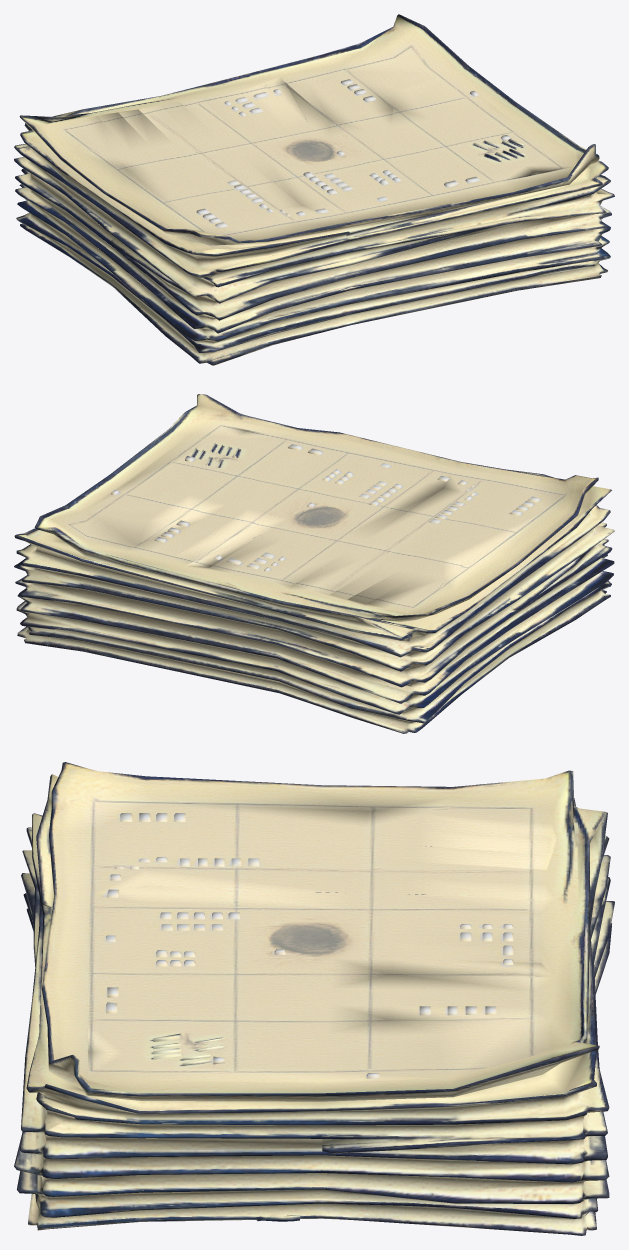
Rendered from ReceptionPapers.fbx.
3 renders of one model, top to bottom at view 1: azimuth 30°, elevation 25°; view 2: azimuth 150°, elevation 25°; view 3: azimuth 270°, elevation 25°, orthographic. The views are drawn at different scales.
Visible parts, largest first — view 1: tripo_node_c9a402ae-4c77-4cf9-b679-323a09bee7ab; view 2: tripo_node_c9a402ae-4c77-4cf9-b679-323a09bee7ab; view 3: tripo_node_c9a402ae-4c77-4cf9-b679-323a09bee7ab.
Part boxes in pixels (x1,y1,x2,y2): tripo_node_c9a402ae-4c77-4cf9-b679-323a09bee7ab: (14,14,614,365); tripo_node_c9a402ae-4c77-4cf9-b679-323a09bee7ab: (14,394,614,733); tripo_node_c9a402ae-4c77-4cf9-b679-323a09bee7ab: (14,762,614,1235).
Bounding box in the file's own units: 100 × 28.96 × 84.34.
Materials: 1 (1 with a texture image).
